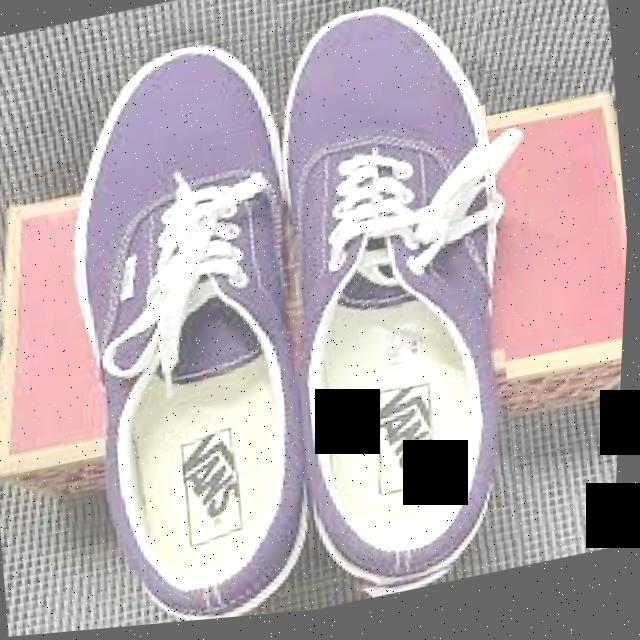shoe: (34, 0, 547, 636)
